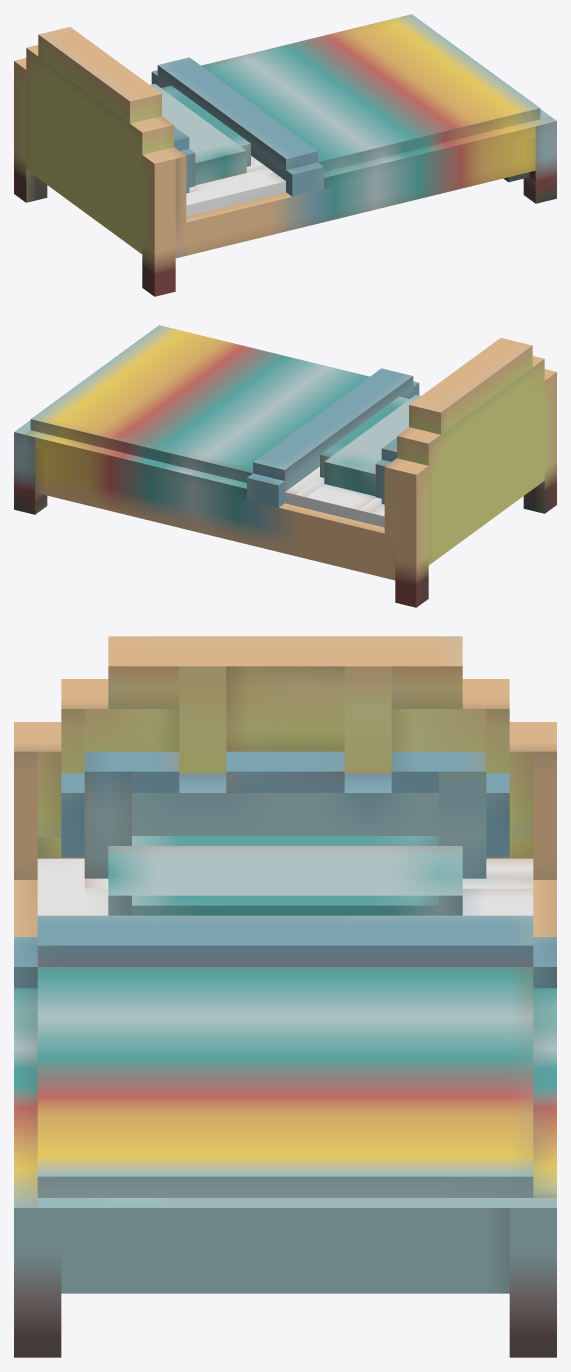
Rendered from KiddieBed_00.fbx.
3 views of the same model, one above another, from view 1: azimuth 30°, elevation 25°; view 2: azimuth 150°, elevation 25°; view 3: azimuth 270°, elevation 25° (orthographic). The views are drawn at different scales.
Parts seen in each view (by area): view 1: KiddieBed_00; view 2: KiddieBed_00; view 3: KiddieBed_00.
Boxes of the visible parts, <box> form: KiddieBed_00: <box>14,14,556,296</box>; KiddieBed_00: <box>14,325,556,607</box>; KiddieBed_00: <box>14,636,556,1357</box>.
Size of the model in its own units: 190 by 115 by 80.
Materials: 1 (1 with a texture image).
